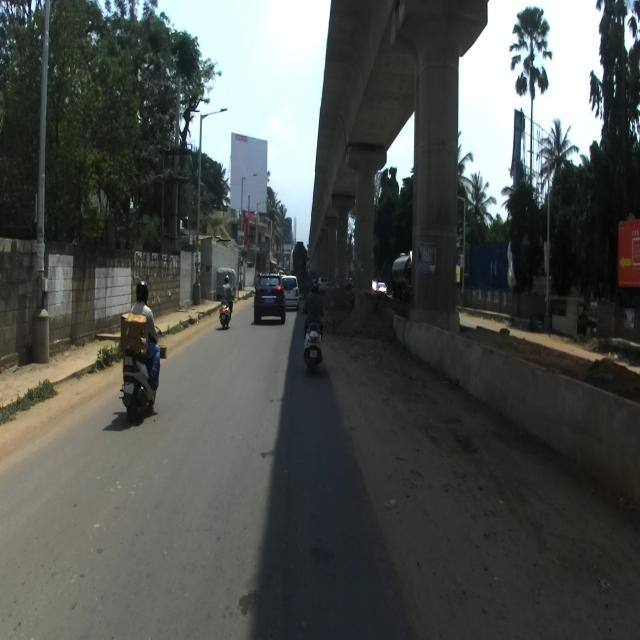car: (250, 272, 287, 329), (280, 273, 298, 316)
scooter: (118, 322, 164, 423), (303, 311, 322, 375)
